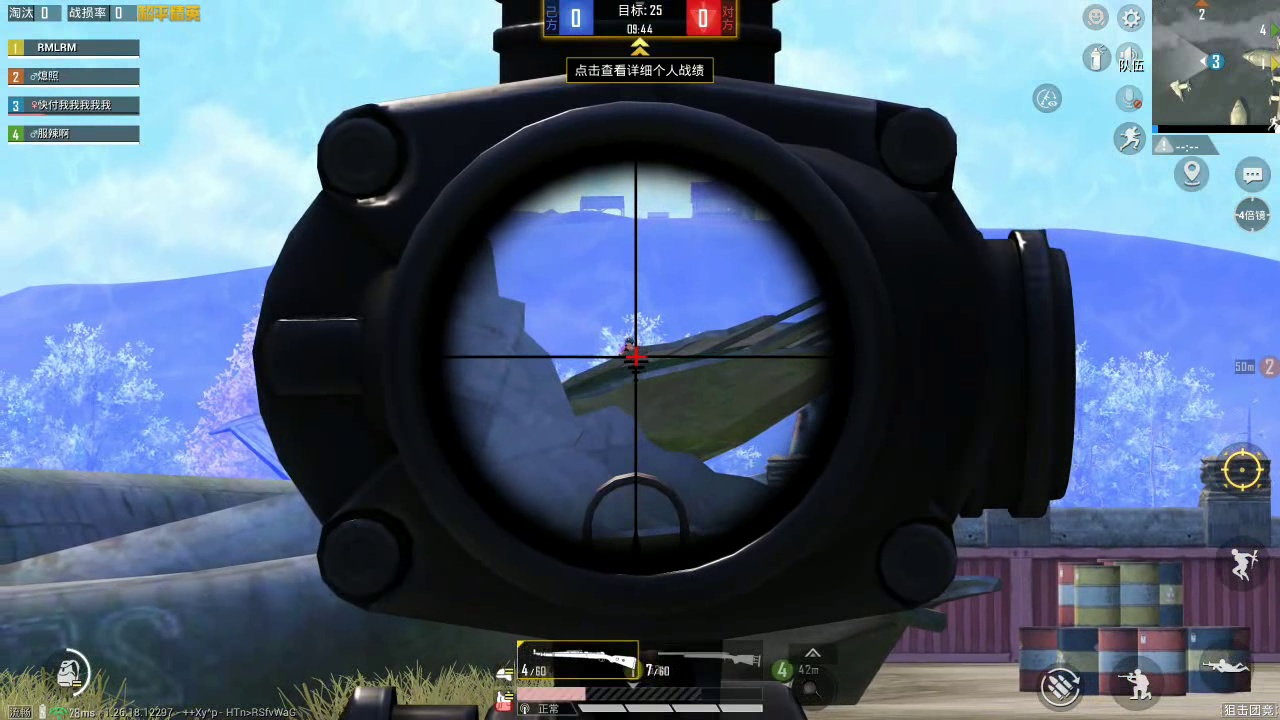enemy: (616, 333, 638, 355)
